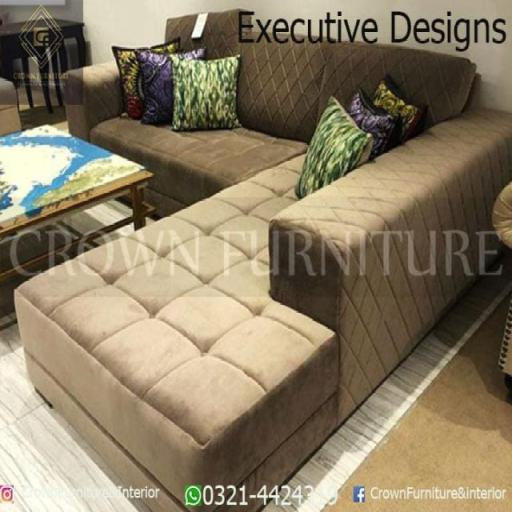sofa: (46, 0, 494, 487)
